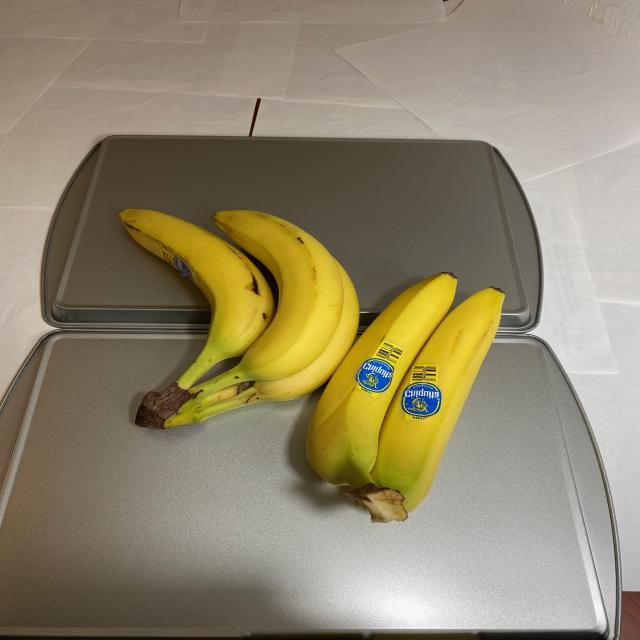banana: (106, 203, 510, 522)
